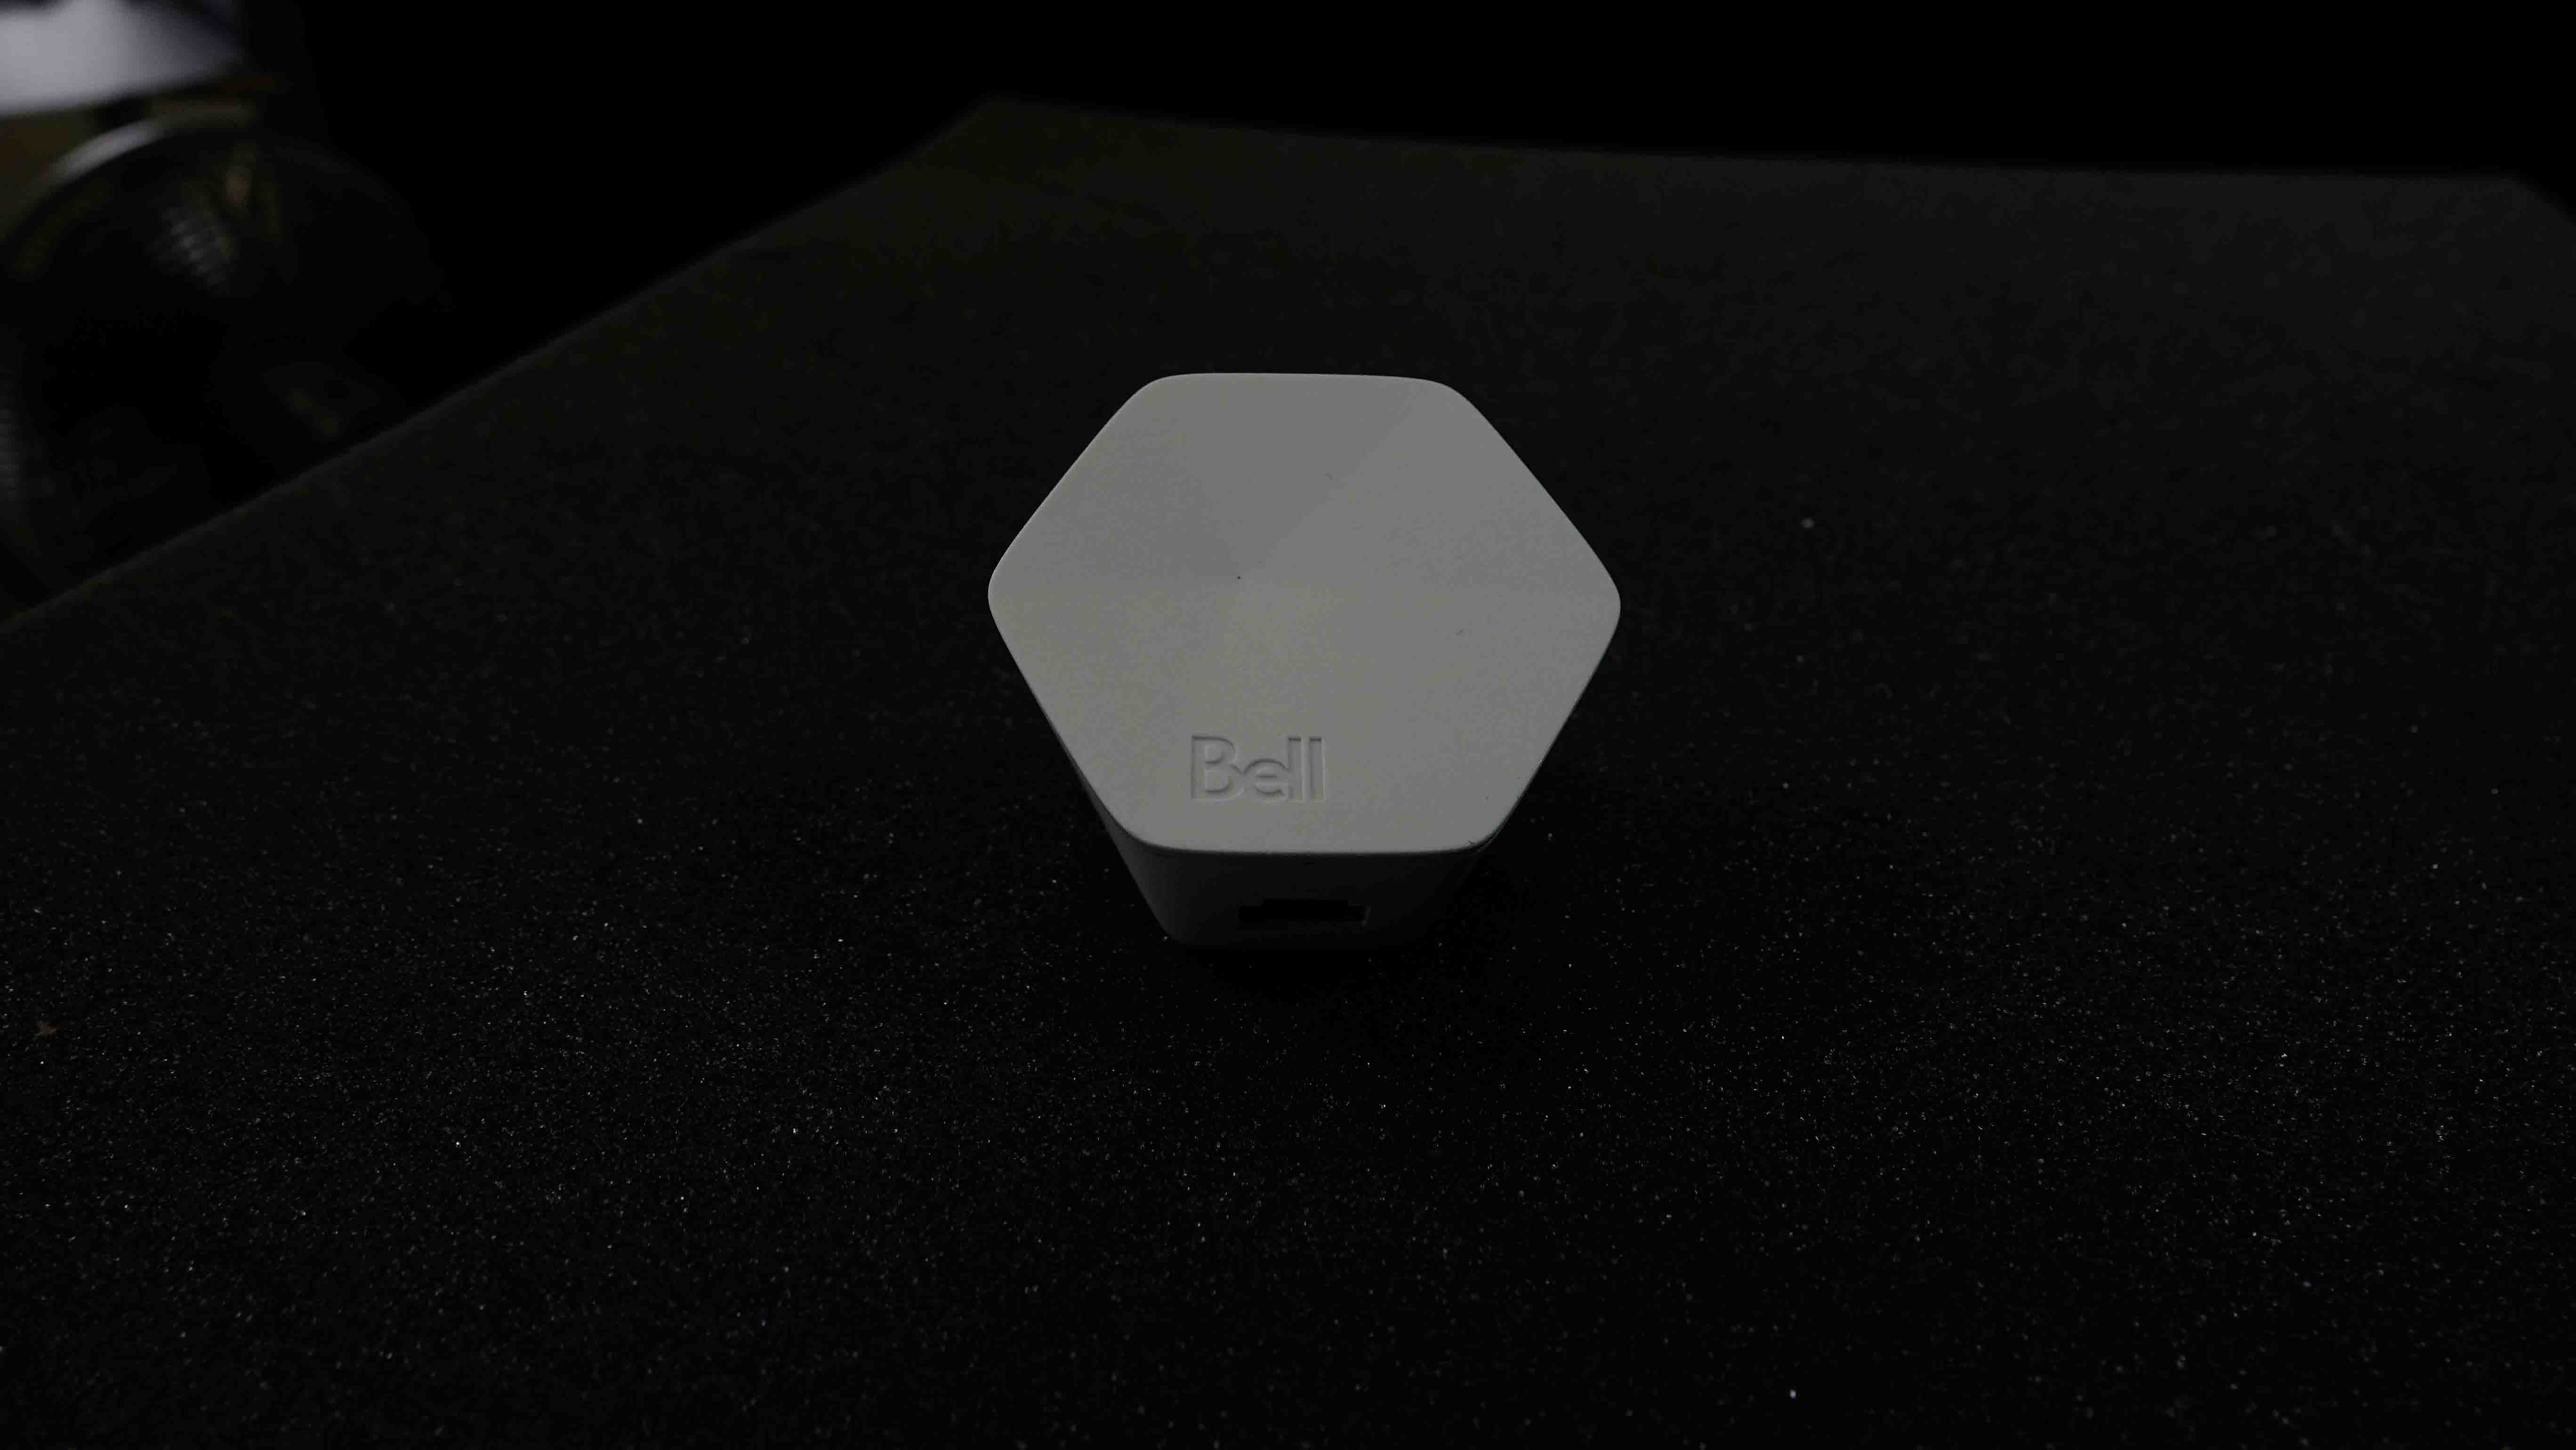pod: (962, 347, 1638, 971)
